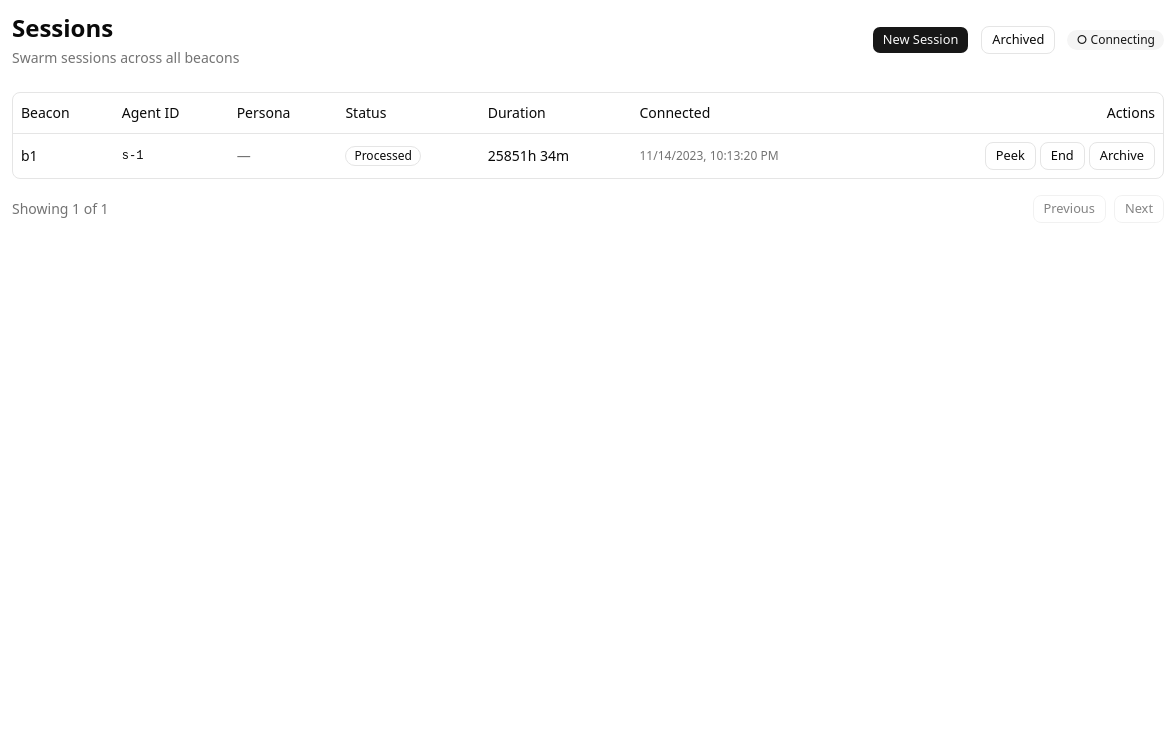
Test: SessionsPage archive actions › failed undo shows an error toast and refetches
Expected: the text "Processed" is shown, [345,146,421,166]
Click the button "Archive".
click(1122, 156)  # box [1089,142,1155,170]
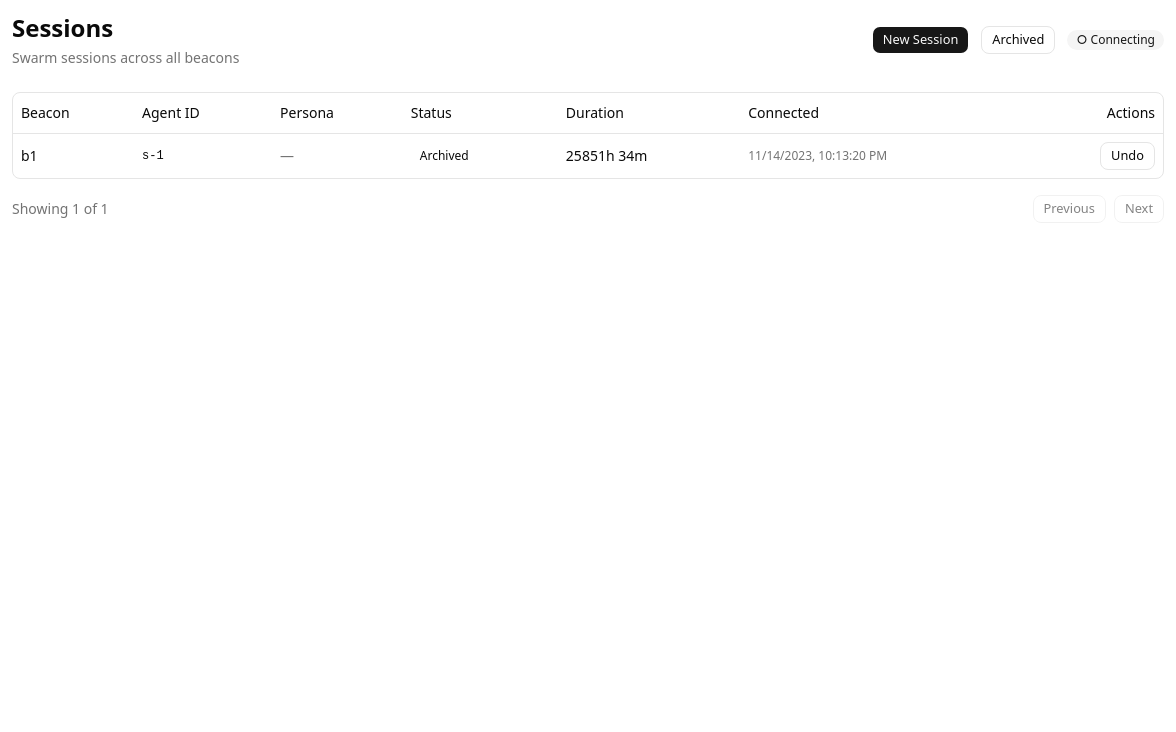
Expected: the button "Undo" is shown
Click the button "Undo".
click(1128, 156)  # box [1100,142,1155,170]
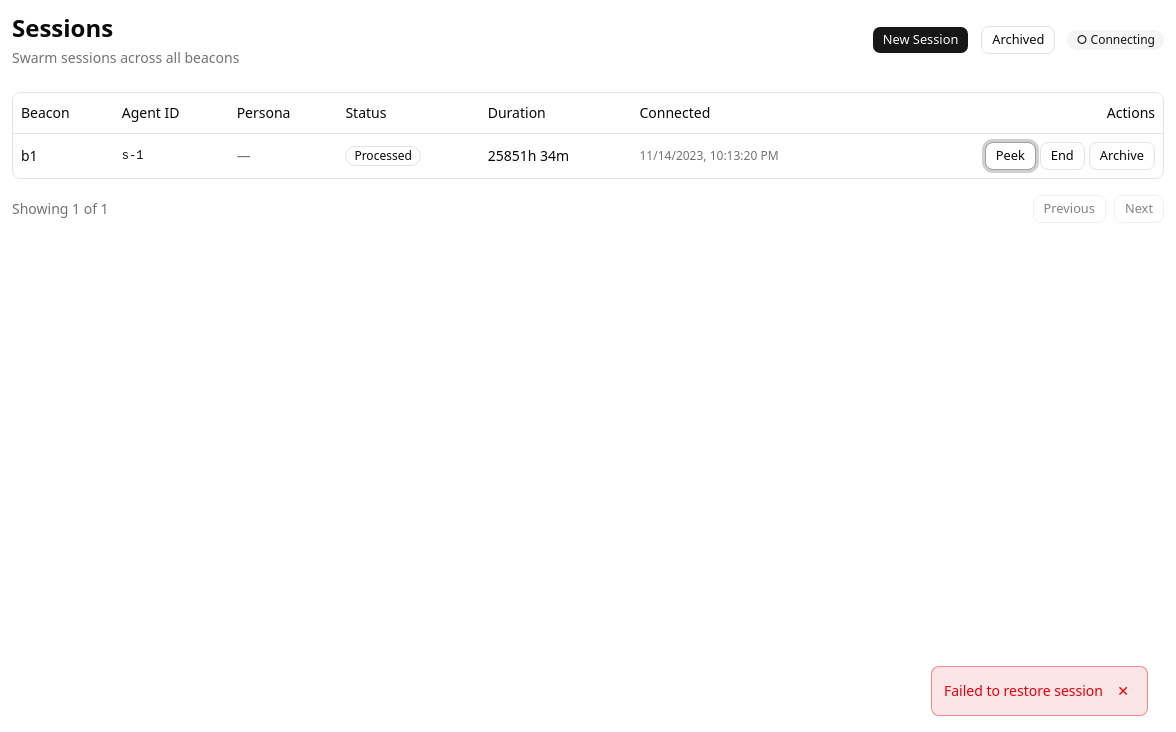
Expected: the message shows "Failed to restore session", [944,681,1103,700]
